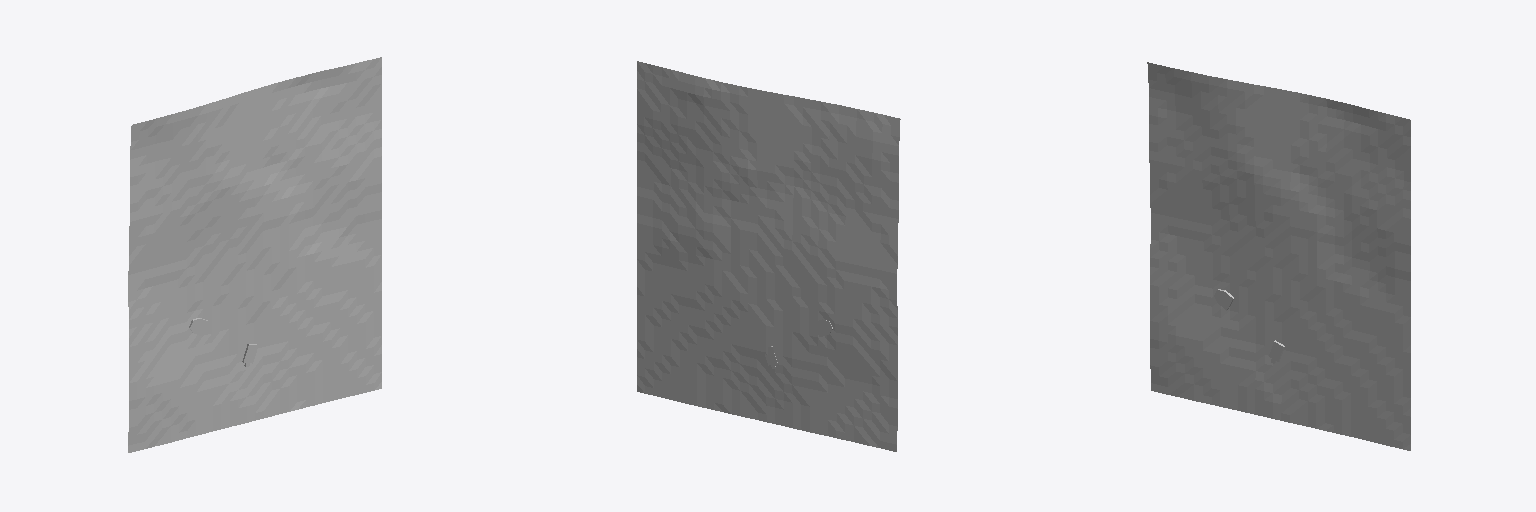
3 views of the same model, side by side, from view 1: azimuth 30°, elevation 25°; view 2: azimuth 150°, elevation 25°; view 3: azimuth 330°, elevation 25° (orthographic).
Visible parts, largest first — view 1: TPX_1_GROUND; view 2: TPX_1_GROUND; view 3: TPX_1_GROUND.
Part boxes in pixels (bbox=[...]): TPX_1_GROUND: bbox=[128, 57, 381, 452]; TPX_1_GROUND: bbox=[637, 61, 900, 451]; TPX_1_GROUND: bbox=[1147, 62, 1410, 450].
Bounding box in the file's own units: 598 × 737 × 33.